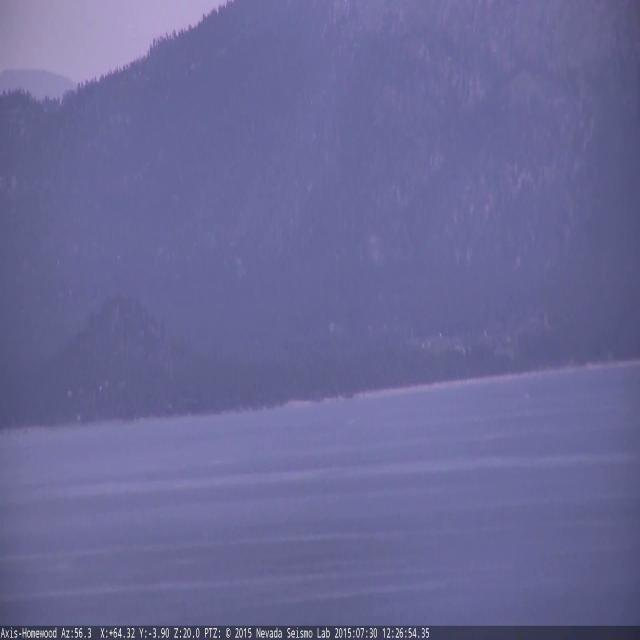smoke: (328, 316, 342, 339)
